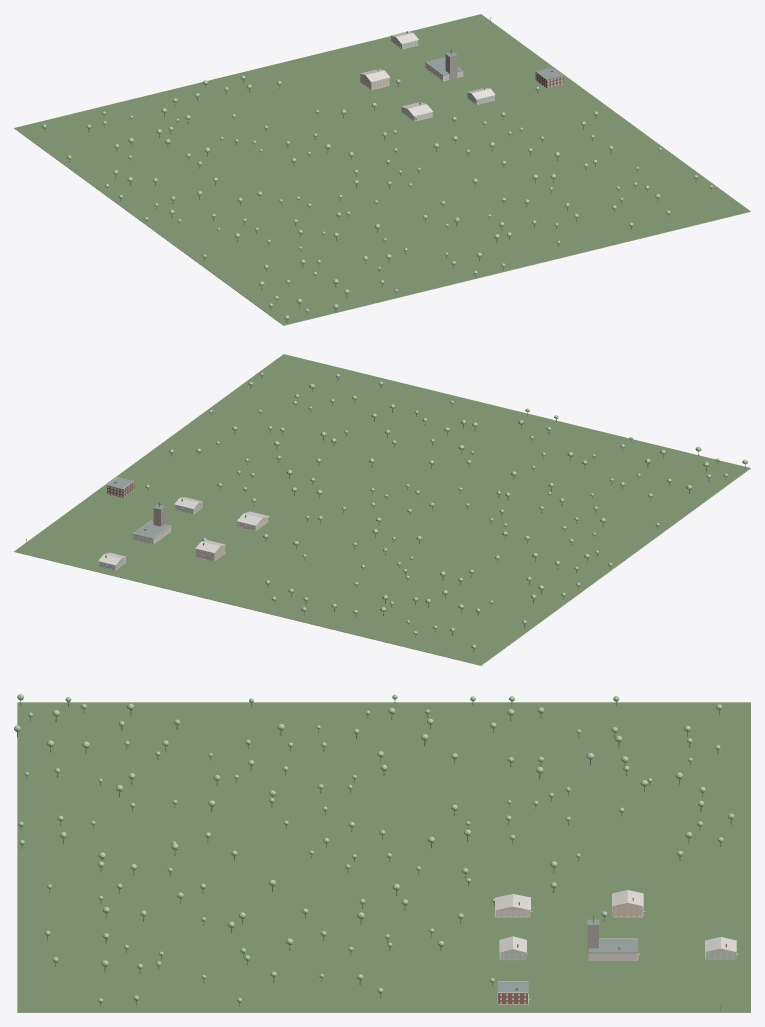
File: chunk_1_6_high.glb
The picture shows the model from 3 angles, top to bottom: view 1: azimuth 30°, elevation 25°; view 2: azimuth 150°, elevation 25°; view 3: azimuth 270°, elevation 25°; orthographic projection. The views are drawn at different scales.
Parts seen in each view (by area): view 1: city_forest_floor, city_foliage, city_foliage_dark, city_roof_tile, city_grass, city_bark, city_roof_slate; view 2: city_forest_floor, city_foliage, city_foliage_dark, city_roof_tile, city_grass, city_bark, city_roof_slate; view 3: city_forest_floor, city_foliage, city_foliage_dark, city_roof_tile, city_roof_slate, city_bark, city_trim, city_grass, city_wall_cream, city_wall_sand.
Boxes of the visible parts, <box> form: city_forest_floor: <box>14,14,750,325</box>; city_foliage: <box>42,75,713,319</box>; city_foliage_dark: <box>42,77,710,319</box>; city_roof_tile: <box>360,31,495,116</box>; city_grass: <box>14,128,750,325</box>; city_bark: <box>44,79,711,323</box>; city_roof_slate: <box>424,52,563,79</box>; city_forest_floor: <box>14,354,750,665</box>; city_foliage: <box>146,372,746,648</box>; city_foliage_dark: <box>145,373,747,648</box>; city_roof_tile: <box>98,497,268,565</box>; city_grass: <box>14,468,750,665</box>; city_bark: <box>147,376,745,652</box>; city_roof_slate: <box>106,477,171,538</box>; city_forest_floor: <box>17,702,750,1012</box>; city_foliage: <box>14,694,734,1002</box>; city_foliage_dark: <box>16,696,733,1002</box>; city_roof_tile: <box>495,890,736,952</box>; city_roof_slate: <box>497,919,638,993</box>; city_bark: <box>17,700,731,1006</box>; city_trim: <box>495,906,736,1004</box>; city_grass: <box>17,1012,750,1012</box>; city_wall_cream: <box>496,910,637,960</box>; city_wall_sand: <box>498,903,733,952</box>.
Bounding box in the file's own units: 512 × 30.17 × 514.
